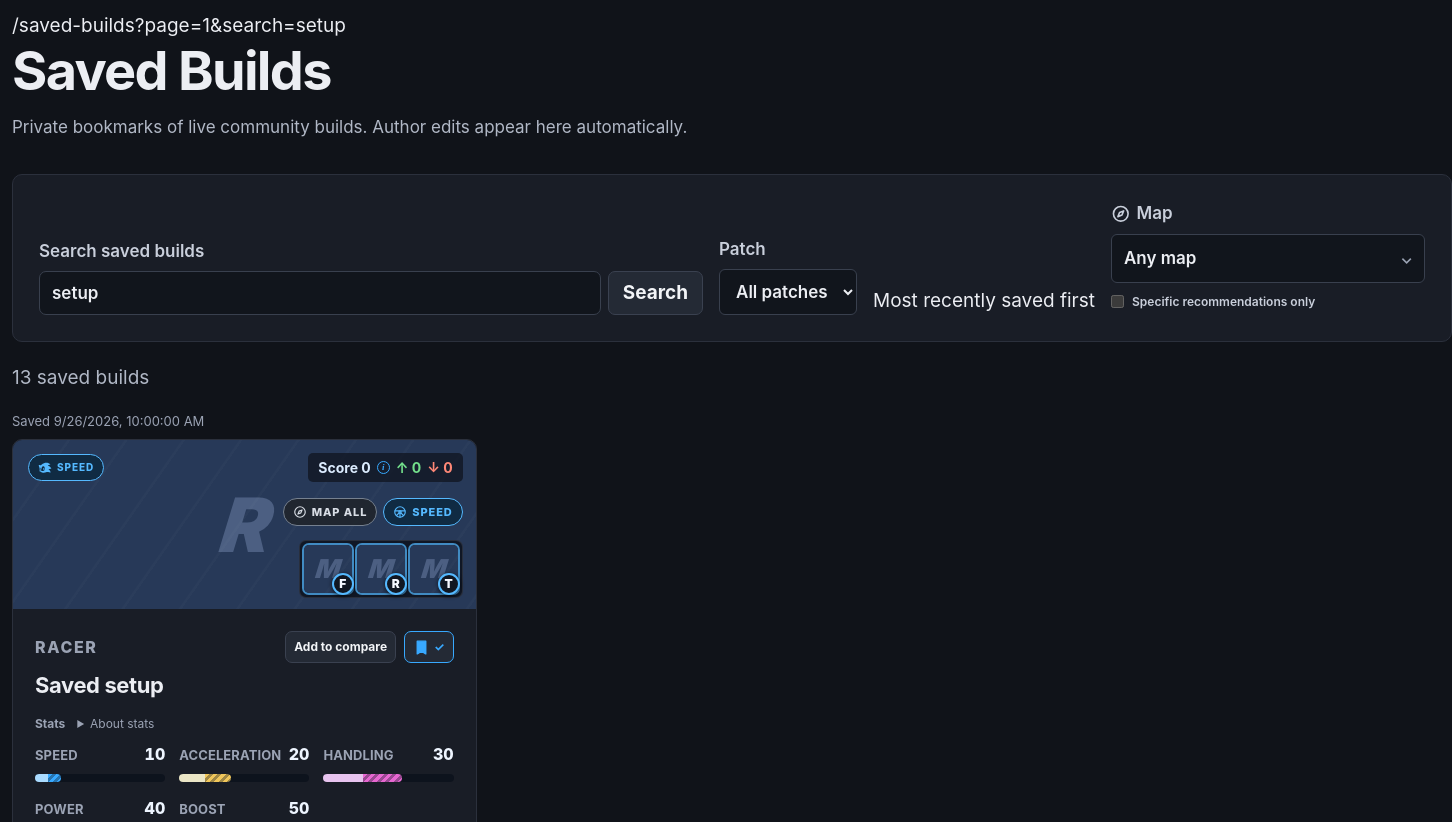
Test: moves to the preceding page after removing the final item on the last page
Click the button named "Remove Saved setup from saved builds" at coordinates (429, 648), box x1=404 y1=632 x2=454 y2=664
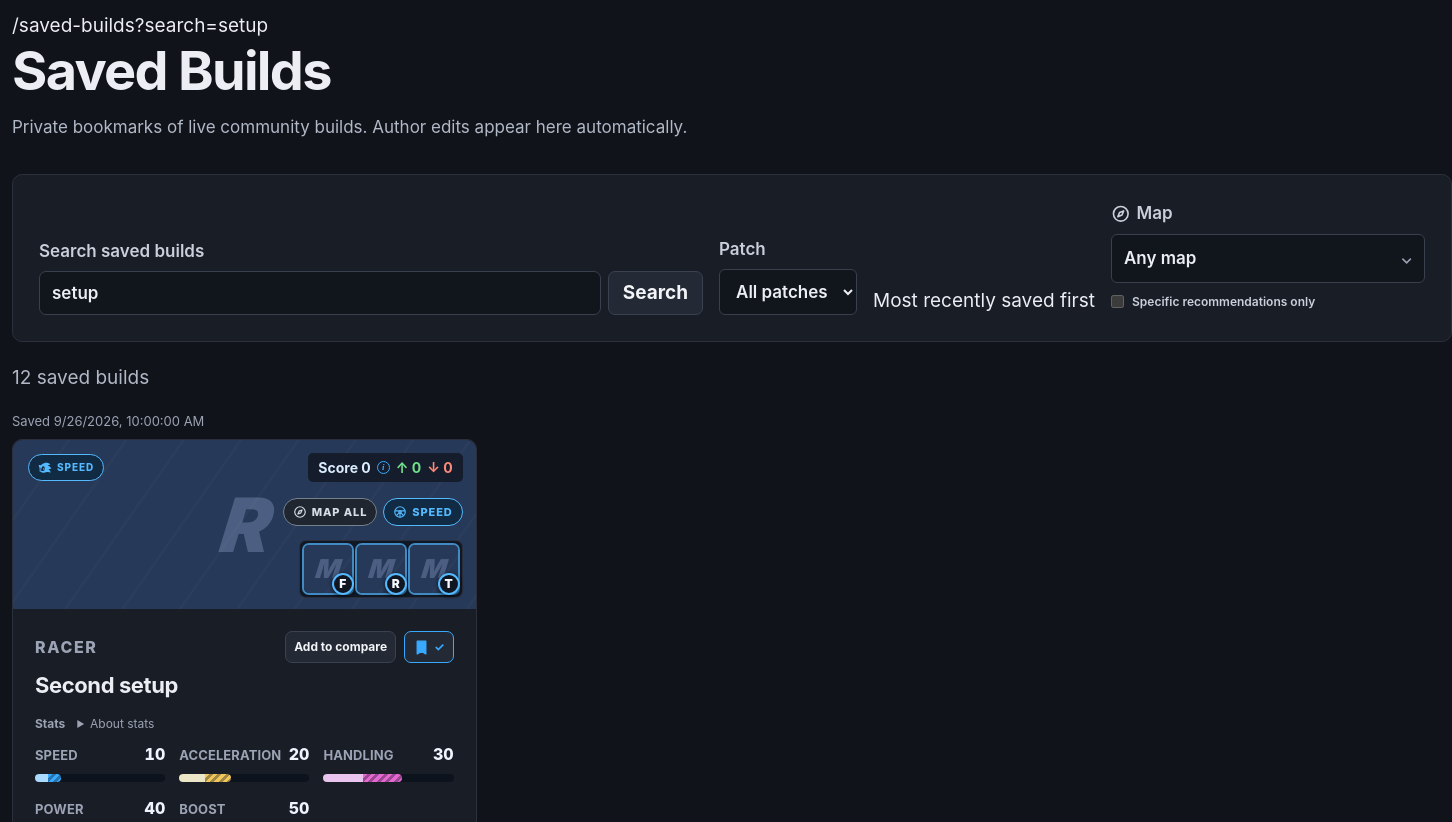
Check: the link "Second setup" is shown, box x1=35 y1=672 x2=178 y2=698
Check: the text with test id "location" reads "/saved-builds?search=setup", box x1=12 y1=14 x2=268 y2=37
